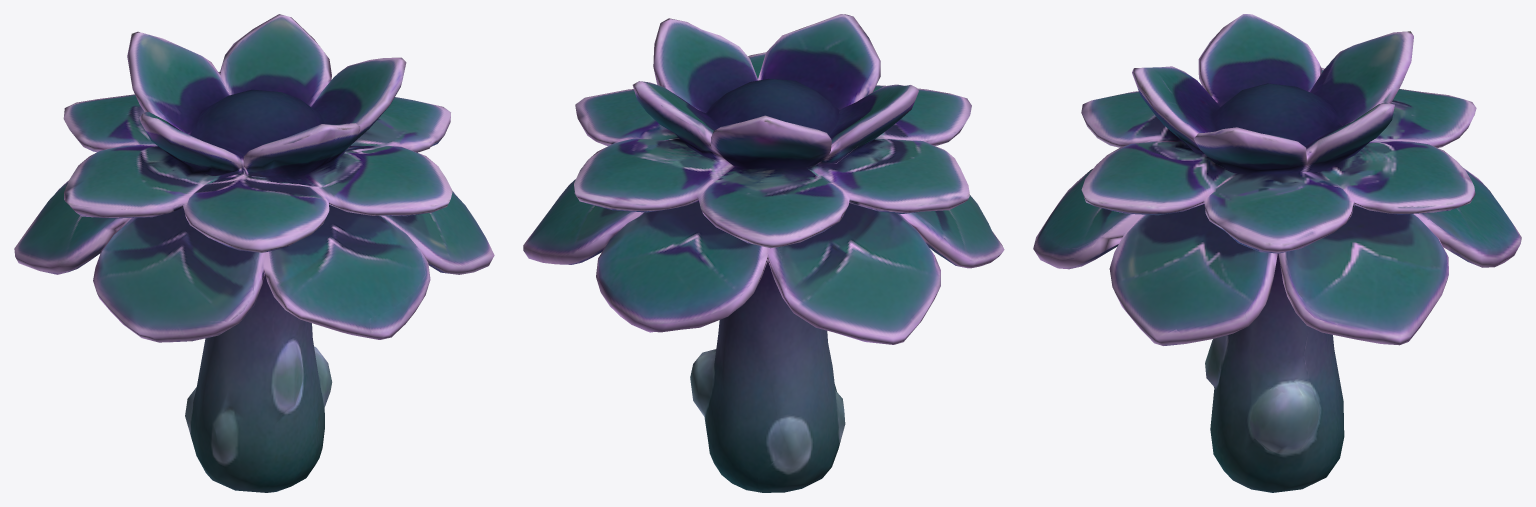
File: crop_mushroomflower_small.fbx
3 views of the same model, side by side, from view 1: azimuth 30°, elevation 25°; view 2: azimuth 150°, elevation 25°; view 3: azimuth 270°, elevation 25° (orthographic). The views are drawn at different scales.
Parts seen in each view (by area): view 1: texture_mapping; view 2: texture_mapping; view 3: texture_mapping.
Part boxes in pixels (bbox=[...]): texture_mapping: bbox=[14, 14, 494, 492]; texture_mapping: bbox=[523, 14, 1004, 492]; texture_mapping: bbox=[1033, 14, 1521, 492].
Size of the model in its own units: 28.79 by 30 by 31.67.
Materials: 1 (1 with a texture image).
